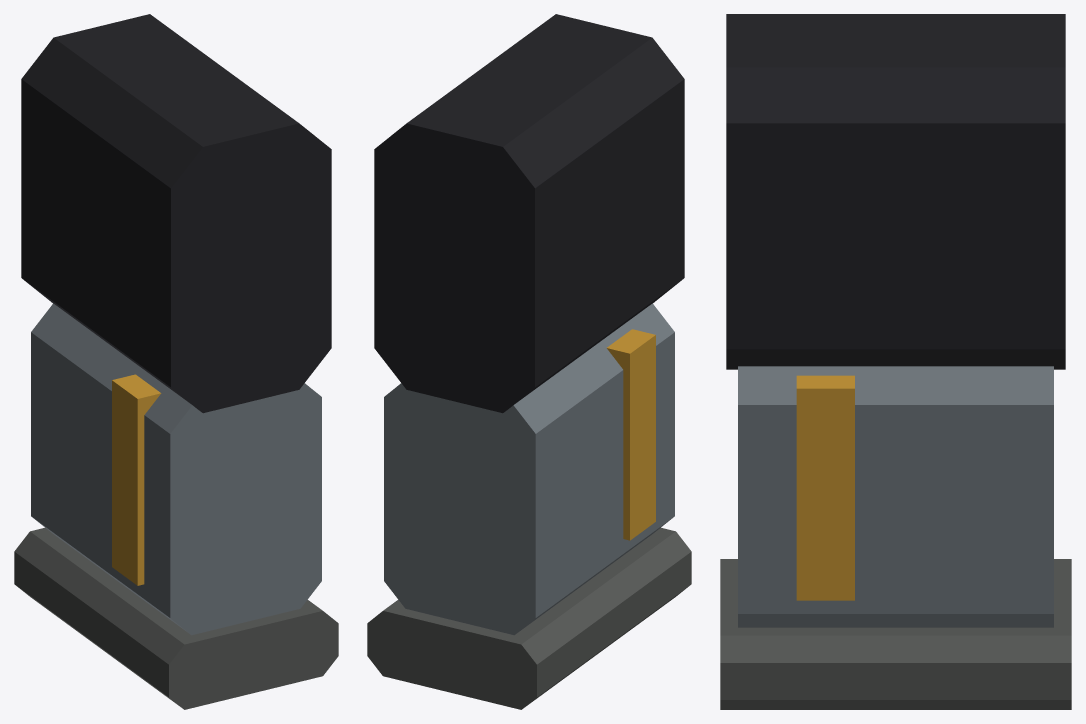
The model's file is ext_mag.glb.
The picture shows the model from 3 angles, left to right: view 1: azimuth 30°, elevation 25°; view 2: azimuth 150°, elevation 25°; view 3: azimuth 270°, elevation 25°; orthographic projection. The views are drawn at different scales.
Parts seen in each view (by area): view 1: ext_mag; view 2: ext_mag; view 3: ext_mag.
Boxes of the visible parts, left/top/right/bottom form: ext_mag: left=14, top=14, right=338, bottom=709; ext_mag: left=367, top=14, right=691, bottom=709; ext_mag: left=720, top=14, right=1071, bottom=709.
Size of the model in its own units: 0.038 by 0.119 by 0.06.
1 material, 1 textured.
